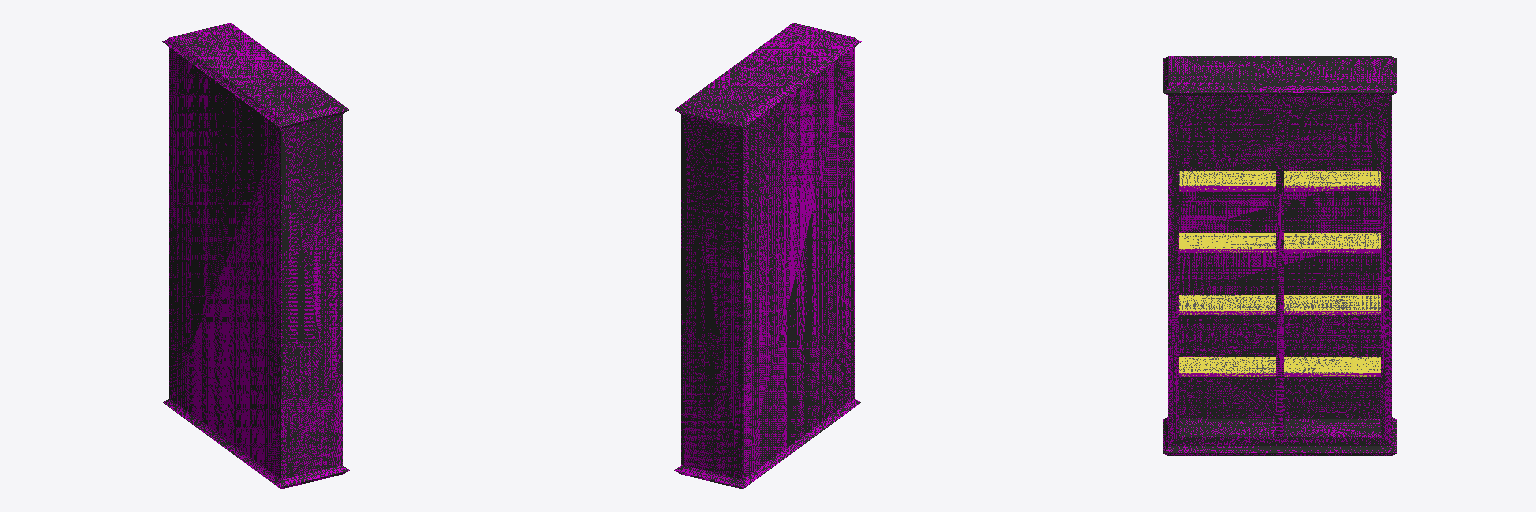
3 views of the same model, side by side, from view 1: azimuth 30°, elevation 25°; view 2: azimuth 150°, elevation 25°; view 3: azimuth 270°, elevation 25° (orthographic).
Visible parts, largest first — view 1: mesh1_mesh1-geometry; view 2: mesh1_mesh1-geometry; view 3: mesh1_mesh1-geometry.
Boxes of the visible parts, x1=… form: mesh1_mesh1-geometry: x1=162, y1=23, x2=349, y2=488; mesh1_mesh1-geometry: x1=674, y1=23, x2=861, y2=488; mesh1_mesh1-geometry: x1=1163, y1=56, x2=1396, y2=455.
Size of the model in its own units: 0.1709 by 0.8545 by 0.4906.
4 materials, 2 textured.